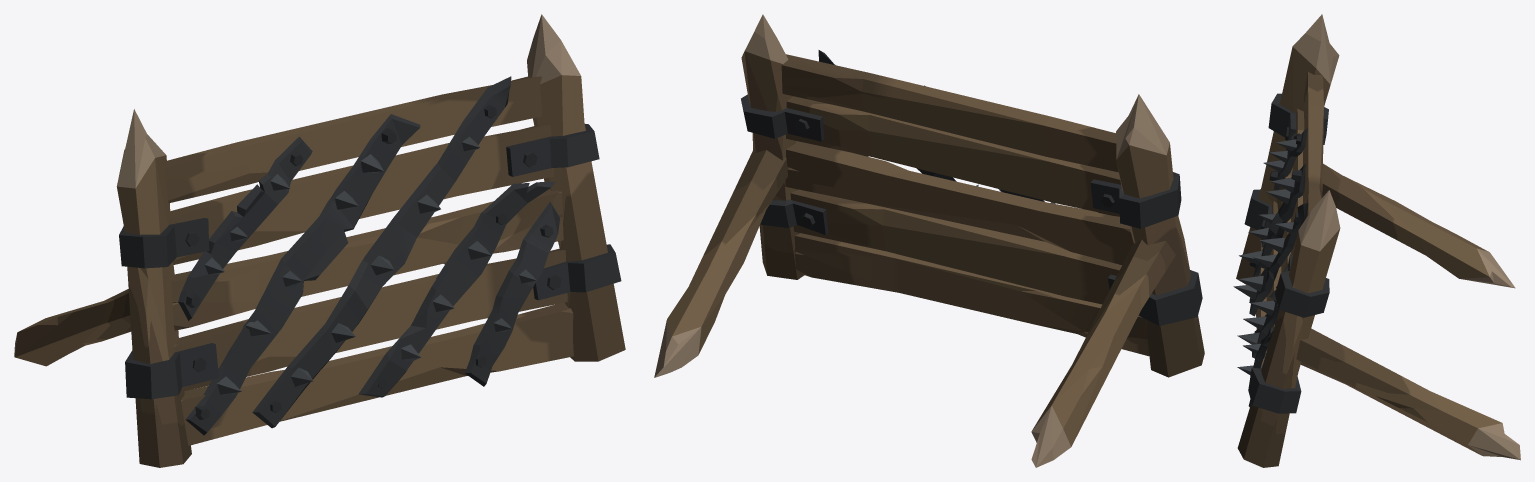
The model's file is SM_Prop_Barricade_02.fbx.
3 views of the same model, side by side, from view 1: azimuth 30°, elevation 25°; view 2: azimuth 150°, elevation 25°; view 3: azimuth 270°, elevation 25° (orthographic). The views are drawn at different scales.
Parts seen in each view (by area): view 1: SM_Prop_Barricade_02; view 2: SM_Prop_Barricade_02; view 3: SM_Prop_Barricade_02.
Part boxes in pixels (x1,y1,x2,y2): SM_Prop_Barricade_02: (14,14,625,467); SM_Prop_Barricade_02: (654,14,1204,467); SM_Prop_Barricade_02: (1233,14,1520,467).
Bounding box in the file's own units: 296 × 190 × 180.
